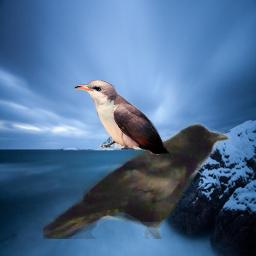Crow: (43, 122, 231, 239)
Cuckoo: (74, 80, 170, 155)
